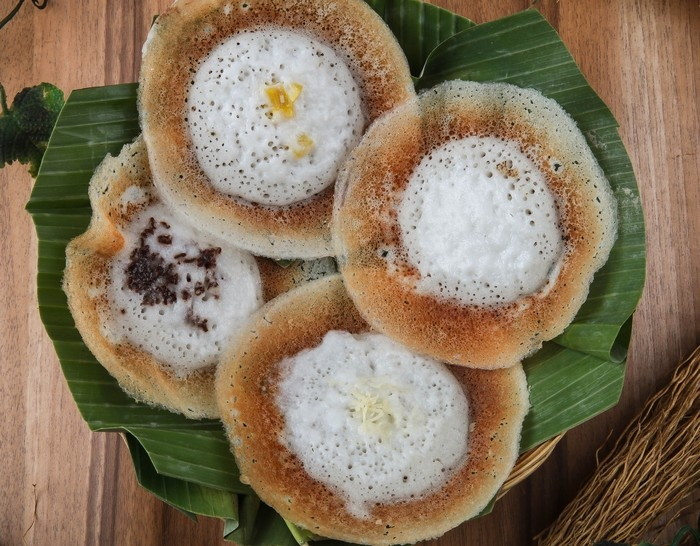srabi: (350, 90, 618, 367), (129, 6, 382, 243)
